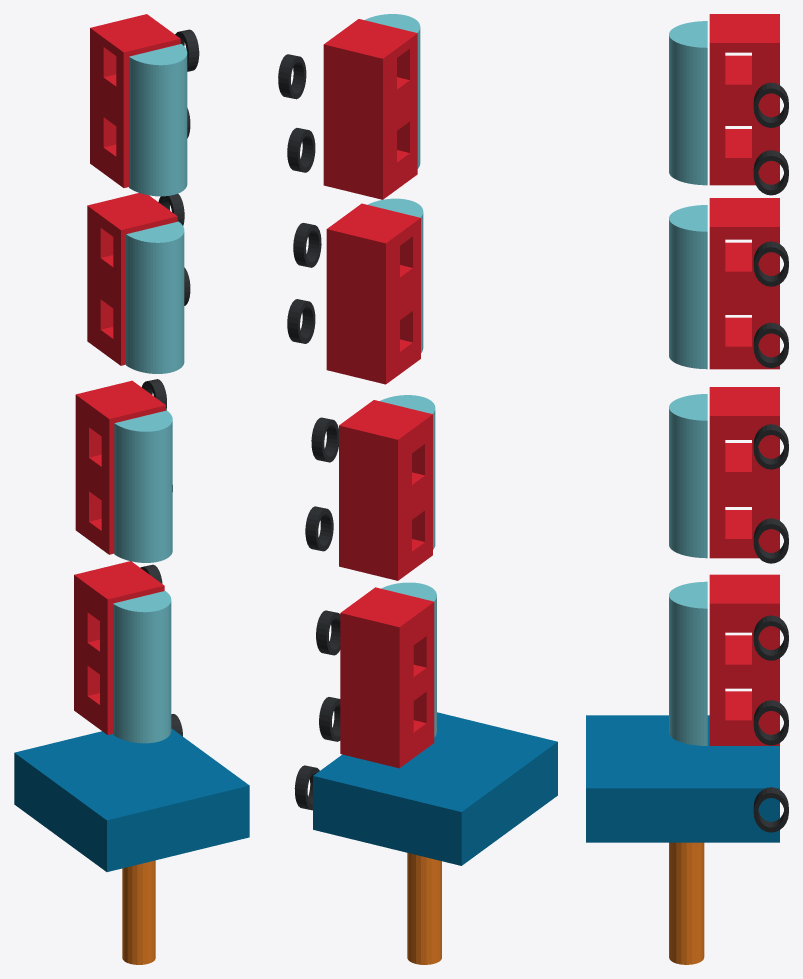
Rendered from tinker.obj.
The picture shows the model from 3 angles, left to right: view 1: azimuth 30°, elevation 25°; view 2: azimuth 150°, elevation 25°; view 3: azimuth 270°, elevation 25°; orthographic projection. The views are drawn at different scales.
Visible parts, largest first — view 1: group_0_7720667, group_0_15277357, group_0_30377, group_0_16089887, group_0_2829873; view 2: group_0_15277357, group_0_30377, group_0_2829873, group_0_7720667, group_0_16089887; view 3: group_0_15277357, group_0_7720667, group_0_30377, group_0_2829873, group_0_16089887.
Part boxes in pixels (box(x1,y1,x2,y2)): group_0_7720667: box(113, 44, 187, 743); group_0_15277357: box(74, 14, 180, 734); group_0_30377: box(14, 728, 249, 871); group_0_16089887: box(122, 860, 155, 964); group_0_2829873: box(140, 29, 199, 736); group_0_15277357: box(323, 19, 434, 768); group_0_30377: box(313, 712, 557, 865); group_0_2829873: box(278, 54, 340, 810); group_0_7720667: box(364, 14, 436, 737); group_0_16089887: box(407, 853, 441, 964); group_0_15277357: box(709, 14, 779, 745); group_0_7720667: box(669, 21, 707, 745); group_0_30377: box(586, 715, 779, 842); group_0_2829873: box(753, 82, 788, 832); group_0_16089887: box(669, 842, 704, 964).
Size of the model in its own units: 119 by 589 by 115.
